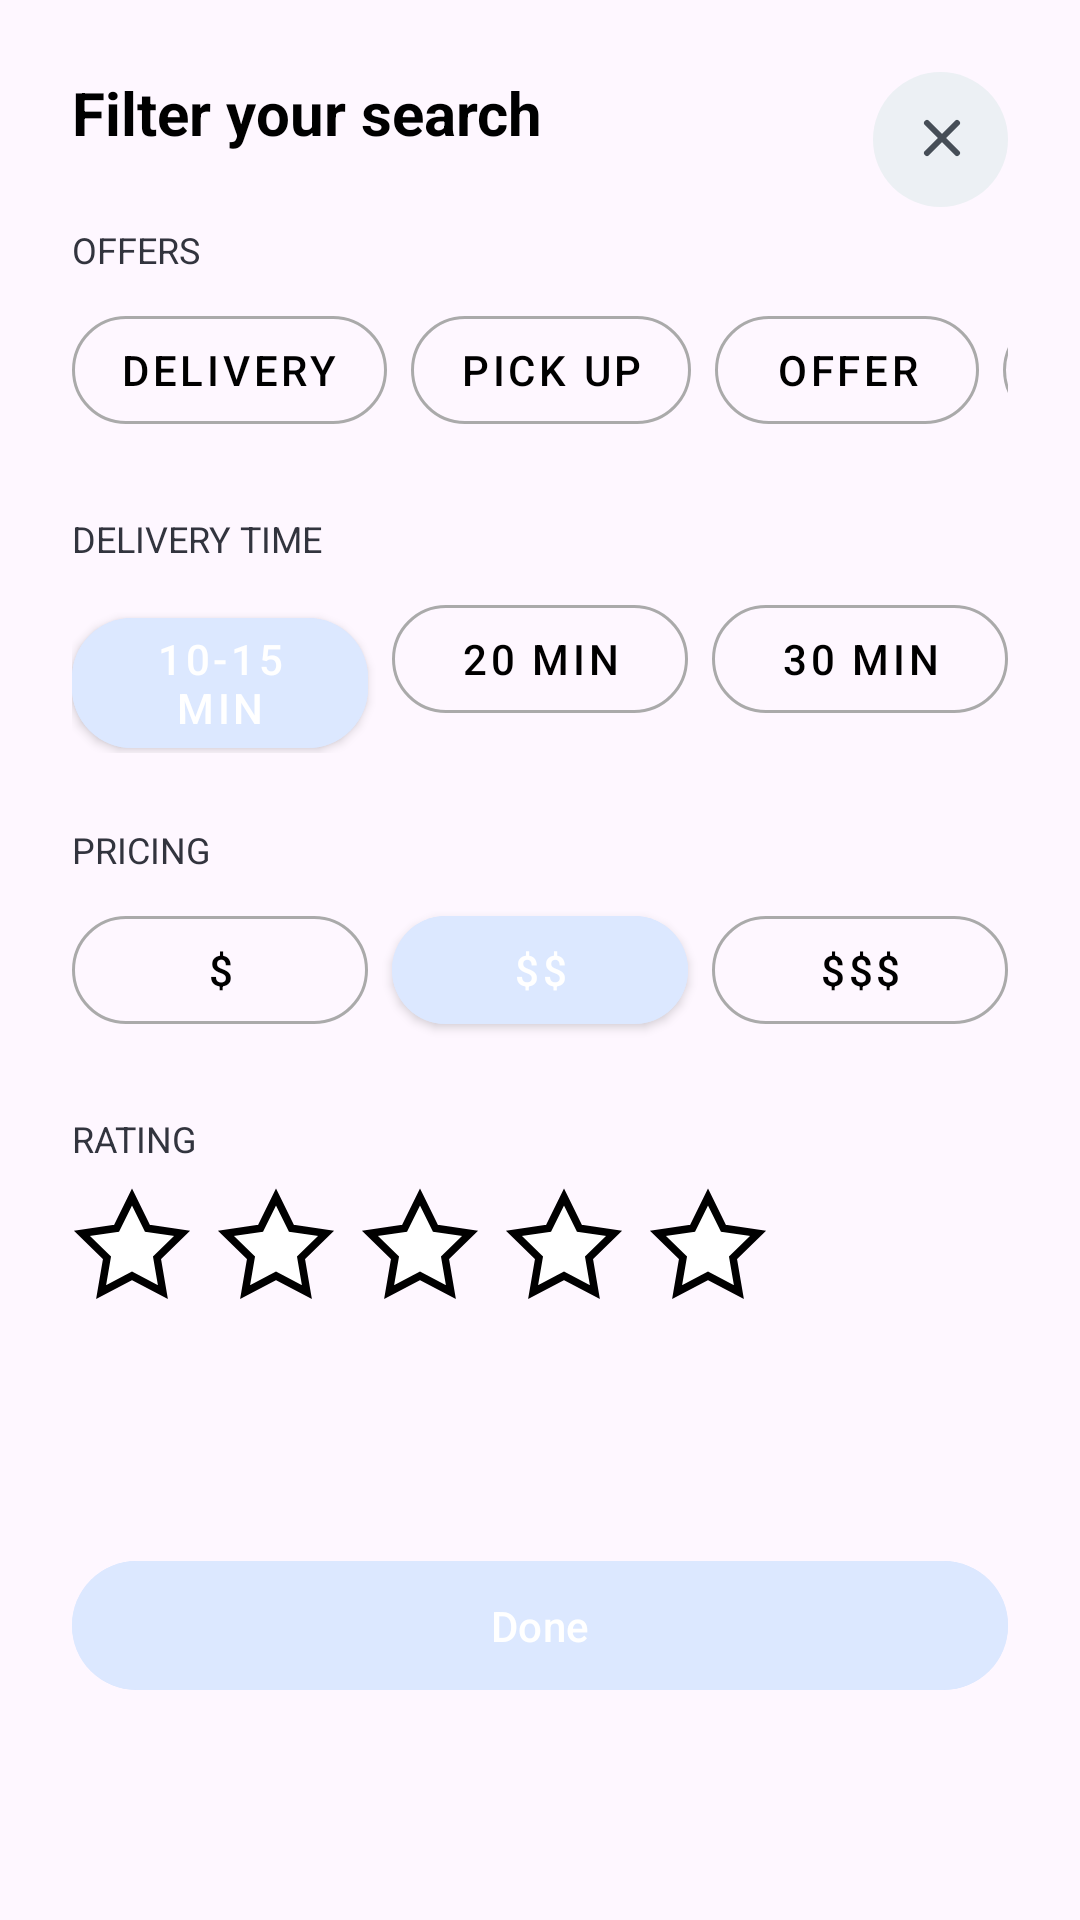

Icons on this 1080×1920 Android screen, each with its box as region(x1, y1, x2, y2):
Close: region(873, 72, 1008, 207)
Star 1: region(74, 1189, 190, 1299)
Star 2: region(218, 1189, 334, 1299)
Star 3: region(362, 1189, 478, 1299)
Star 4: region(506, 1189, 622, 1299)
Star 5: region(650, 1189, 766, 1299)
